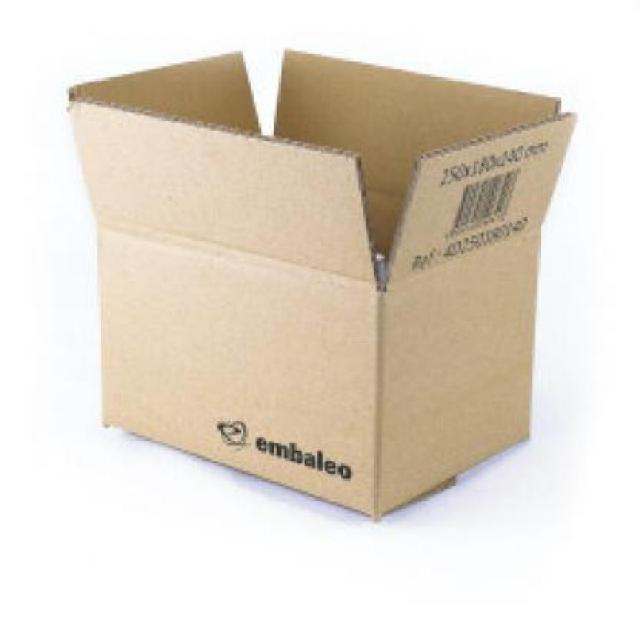box: (65, 48, 578, 519)
opened: (66, 49, 577, 294)
